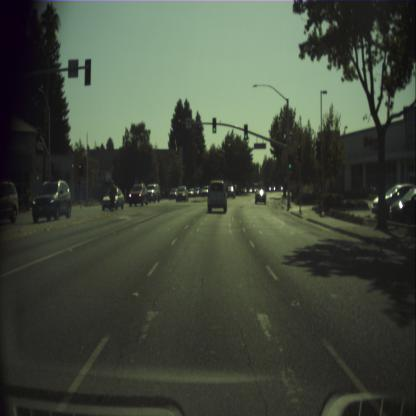Green: (212, 116, 216, 132), (288, 154, 292, 170), (244, 124, 247, 139)
RedLeft: (177, 115, 181, 130), (78, 162, 82, 177)
